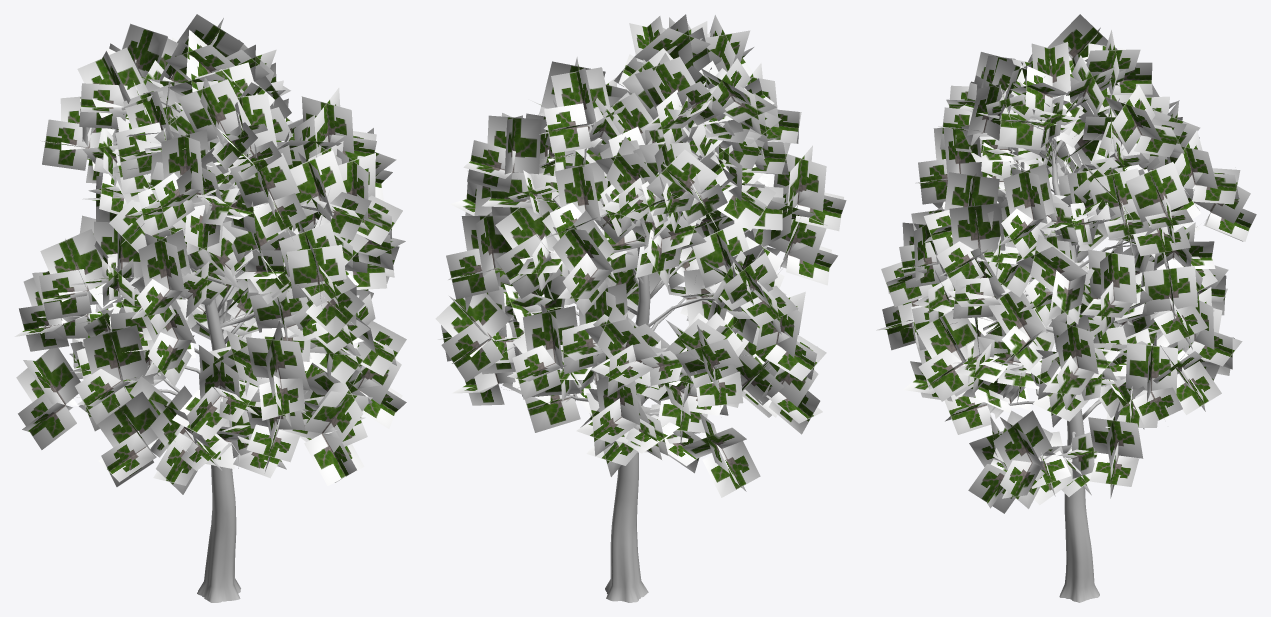
The picture shows the model from 3 angles, left to right: view 1: azimuth 30°, elevation 25°; view 2: azimuth 150°, elevation 25°; view 3: azimuth 270°, elevation 25°; orthographic projection. The views are drawn at different scales.
Visible parts, largest first — view 1: Type_1_8; view 2: Type_1_8; view 3: Type_1_8.
Boxes of the visible parts, x1,y1,x2,y2 form: Type_1_8: (14,14,406,602); Type_1_8: (435,14,846,602); Type_1_8: (876,14,1256,602).
Size of the model in its own units: 7.22 by 11.42 by 7.38.
